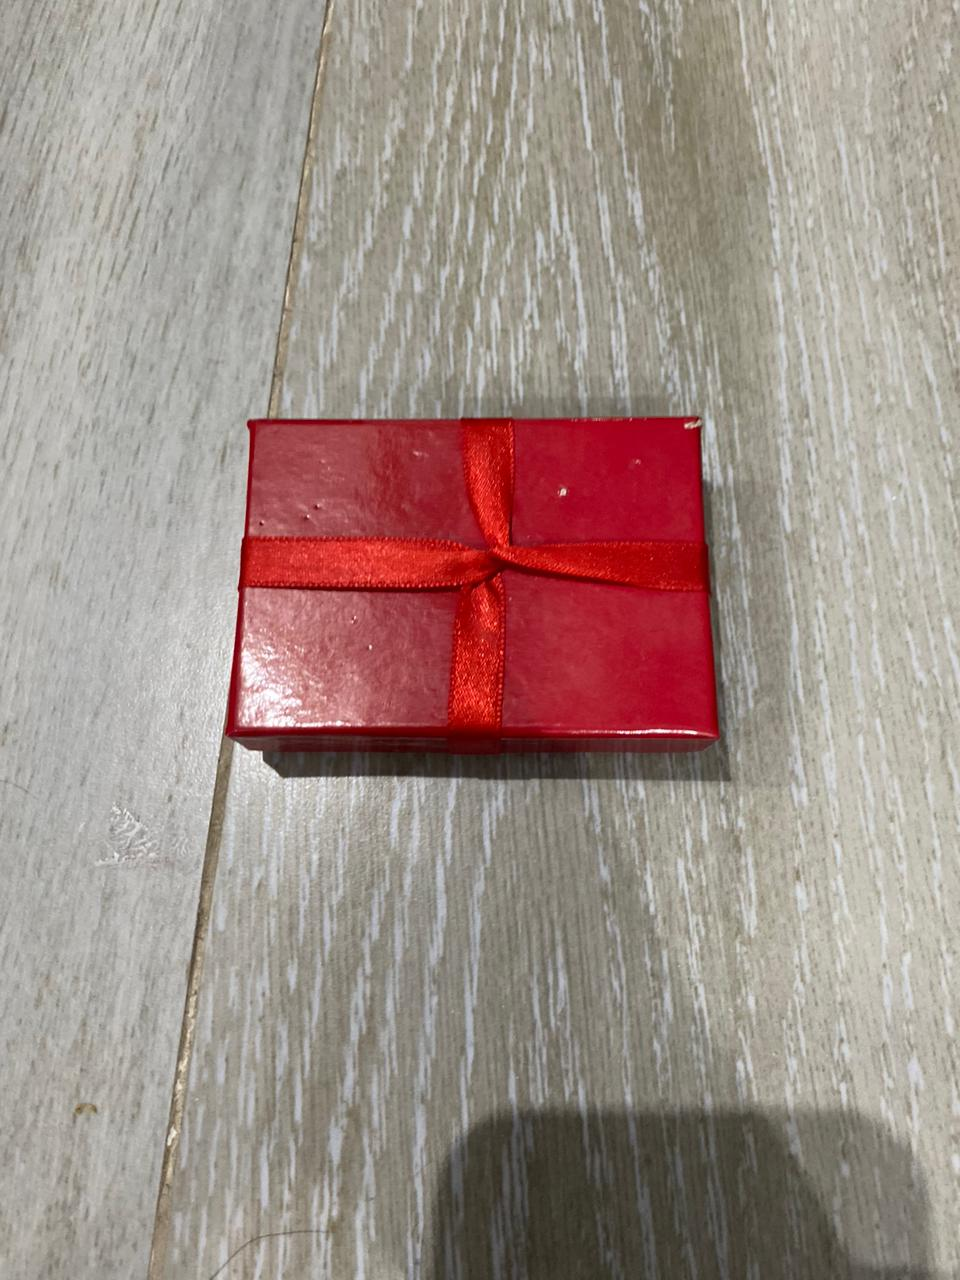Black Box: (223, 409, 725, 752)
